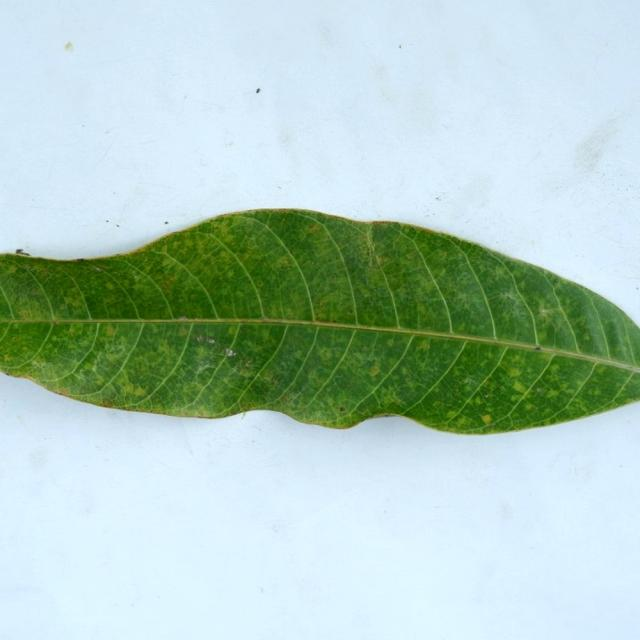Mango: (0, 210, 639, 434)
Powdery_Mildew: (600, 318, 625, 355), (118, 377, 151, 401), (61, 287, 86, 311), (74, 376, 105, 395), (501, 291, 522, 304), (508, 365, 524, 381), (318, 346, 333, 360), (275, 256, 292, 267), (162, 278, 175, 292), (431, 399, 449, 409), (263, 371, 277, 383), (512, 381, 526, 392), (32, 360, 49, 369), (122, 383, 134, 394), (417, 342, 429, 352), (107, 353, 120, 362), (58, 386, 71, 395), (19, 310, 33, 318), (105, 325, 115, 336), (369, 366, 380, 376), (547, 389, 559, 398), (103, 282, 115, 291), (482, 414, 492, 424), (549, 364, 559, 374), (577, 318, 587, 328), (447, 410, 458, 419), (308, 224, 320, 232), (178, 326, 187, 336), (592, 388, 602, 396), (475, 397, 484, 405), (376, 255, 384, 264), (316, 300, 324, 309), (239, 369, 249, 376), (525, 403, 534, 410), (4, 354, 12, 361), (134, 274, 142, 281), (583, 335, 590, 342)
